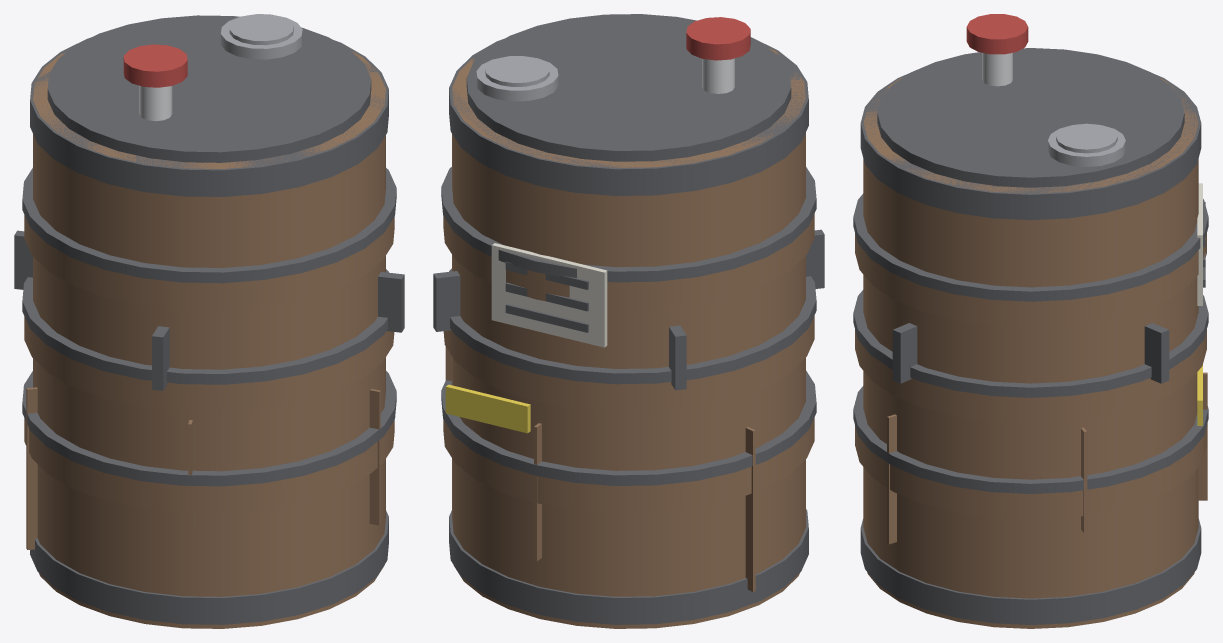
Rendered from PR_barrel.fbx.
3 views of the same model, side by side, from view 1: azimuth 30°, elevation 25°; view 2: azimuth 150°, elevation 25°; view 3: azimuth 270°, elevation 25° (orthographic). The views are drawn at different scales.
Parts seen in each view (by area): view 1: PR_barrel; view 2: PR_barrel; view 3: PR_barrel.
Boxes of the visible parts, <box> form: PR_barrel: <box>14,14,404,628</box>; PR_barrel: <box>433,14,824,628</box>; PR_barrel: <box>853,14,1208,628</box>.
Size of the model in its own units: 0.636 by 0.985 by 0.636.
